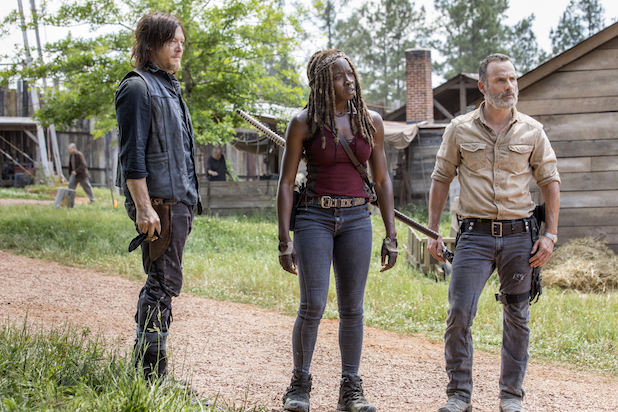feet: (278, 367, 383, 412), (117, 339, 180, 398), (436, 382, 533, 412)
